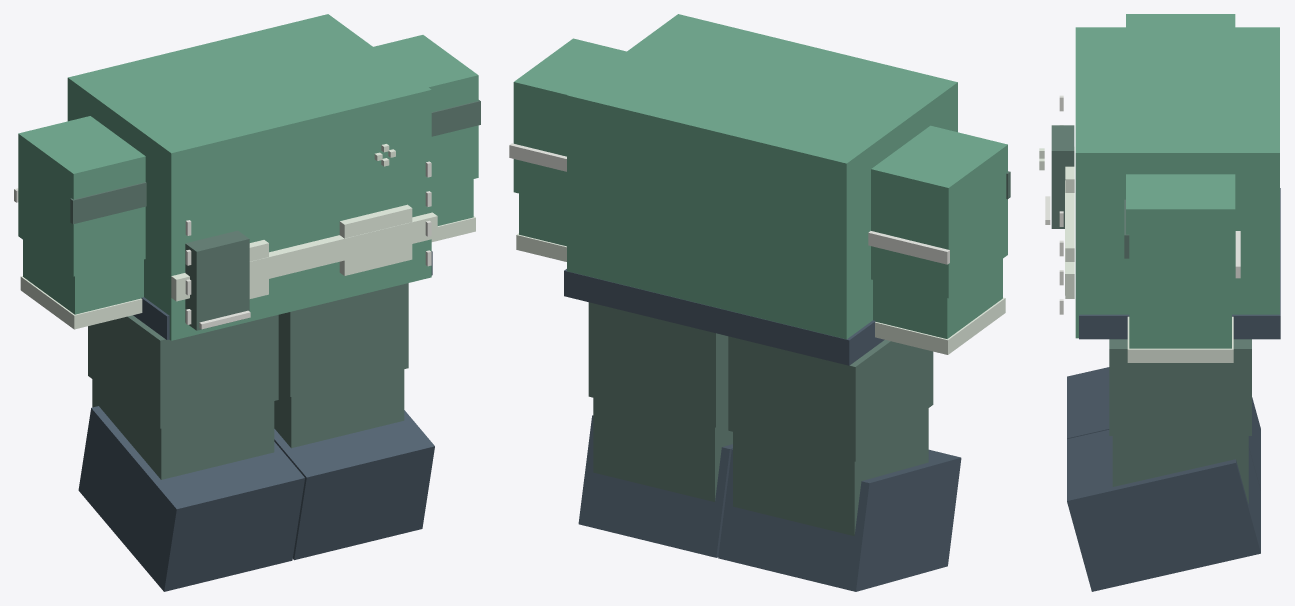
File: workwear-emerald.glb
3 renders of one model, left to right at view 1: azimuth 30°, elevation 25°; view 2: azimuth 150°, elevation 25°; view 3: azimuth 270°, elevation 25°, orthographic. The views are drawn at different scales.
Visible parts, largest first — view 1: jacket, shoe-Right, trouser-Right, upper-sleeve-Right, shoe-Left, trouser-Left, lower-trouser-Right, lower-trouser-Left, upper-sleeve-Left, tool-pocket, reflective-band, lower-sleeve-Right (+8 smaller); view 2: jacket, trouser-Right, shoe-Right, upper-sleeve-Right, trouser-Left, lower-trouser-Right, lower-trouser-Left, shoe-Left, upper-sleeve-Left, utility-belt, lower-sleeve-Right, cuff-Right (+4 smaller); view 3: jacket, shoe-Left, upper-sleeve-Left, trouser-Left, lower-trouser-Left, lower-sleeve-Left, shoe-Right, utility-belt, tool-pocket, cuff-Left, upper-sleeve-Right, reflective-band (+1 smaller).
Boxes of the visible parts, left/top/right/bottom form: jacket: left=67, top=14, right=431, bottom=340; shoe-Right: left=78, top=406, right=304, bottom=591; trouser-Right: left=88, top=315, right=278, bottom=428; upper-sleeve-Right: left=18, top=116, right=145, bottom=276; shoe-Left: left=274, top=410, right=434, bottom=560; trouser-Left: left=278, top=283, right=408, bottom=396; lower-trouser-Right: left=92, top=379, right=274, bottom=479; lower-trouser-Left: left=274, top=369, right=404, bottom=448; upper-sleeve-Left: left=373, top=35, right=478, bottom=188; tool-pocket: left=185, top=230, right=249, bottom=330; reflective-band: left=171, top=212, right=437, bottom=301; lower-sleeve-Right: left=23, top=240, right=143, bottom=314; jacket: left=567, top=14, right=957, bottom=339; trouser-Right: left=728, top=336, right=933, bottom=461; shoe-Right: left=718, top=449, right=961, bottom=591; upper-sleeve-Right: left=871, top=125, right=1007, bottom=298; trouser-Left: left=588, top=302, right=728, bottom=427; lower-trouser-Right: left=733, top=408, right=928, bottom=536; lower-trouser-Left: left=593, top=398, right=732, bottom=501; shoe-Left: left=578, top=415, right=732, bottom=557; upper-sleeve-Left: left=513, top=38, right=626, bottom=204; utility-belt: left=564, top=269, right=884, bottom=365; lower-sleeve-Right: left=873, top=259, right=1002, bottom=338; cuff-Right: left=875, top=297, right=1005, bottom=354; jacket: left=1075, top=27, right=1279, bottom=338; shoe-Left: left=1067, top=430, right=1260, bottom=591; upper-sleeve-Left: left=1126, top=174, right=1235, bottom=310; trouser-Left: left=1109, top=339, right=1251, bottom=435; lower-trouser-Left: left=1112, top=436, right=1248, bottom=503; lower-sleeve-Left: left=1129, top=310, right=1231, bottom=348; shoe-Right: left=1067, top=367, right=1260, bottom=490; utility-belt: left=1079, top=188, right=1280, bottom=339; tool-pocket: left=1051, top=125, right=1074, bottom=228; cuff-Left: left=1127, top=316, right=1233, bottom=362; upper-sleeve-Right: left=1126, top=14, right=1235, bottom=27; reflective-band: left=1065, top=180, right=1074, bottom=295.
Bounding box in the file's own units: 1.08 × 1.13 × 0.56.
